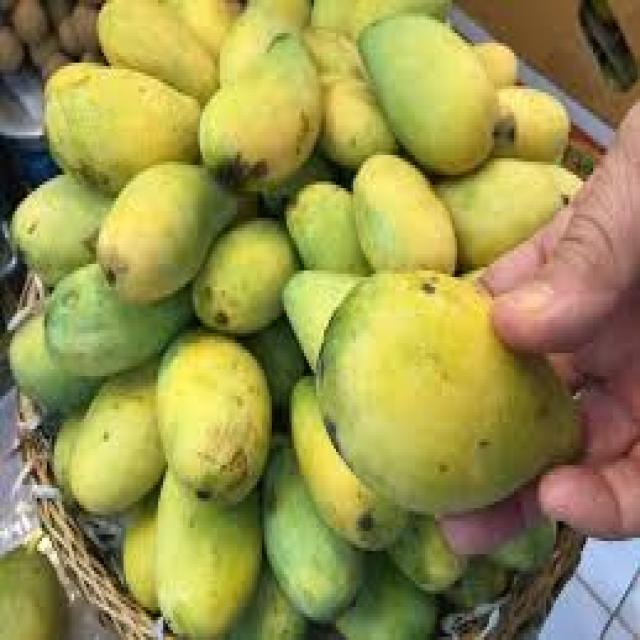mango: (316, 271, 586, 518)
